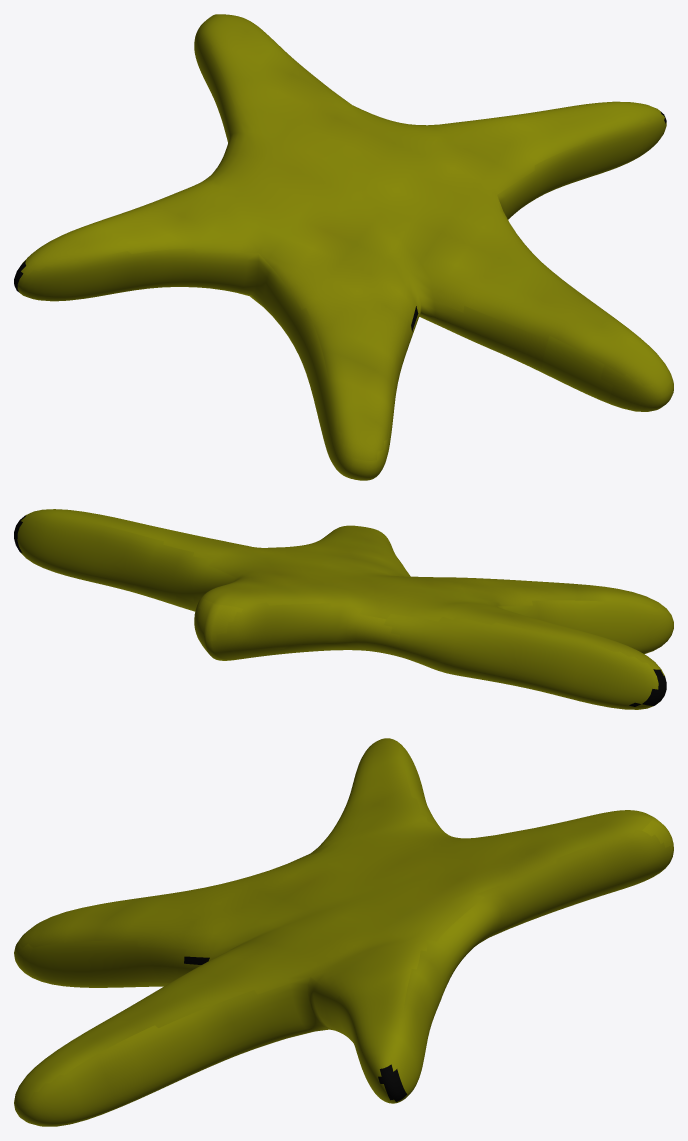
Rendered from EstrelaDoMar.fbx.
3 renders of one model, top to bottom at view 1: azimuth 30°, elevation 25°; view 2: azimuth 150°, elevation 25°; view 3: azimuth 270°, elevation 25°, orthographic. The views are drawn at different scales.
Parts seen in each view (by area): view 1: EstrelaDoMar_LOD0; view 2: EstrelaDoMar_LOD0; view 3: EstrelaDoMar_LOD0.
Boxes of the visible parts, x1,y1,x2,y2 form: EstrelaDoMar_LOD0: (14, 14, 673, 480); EstrelaDoMar_LOD0: (14, 509, 673, 709); EstrelaDoMar_LOD0: (14, 738, 673, 1126).
Size of what is drawn, in the model's own units: 91.55 by 29.85 by 75.82.
